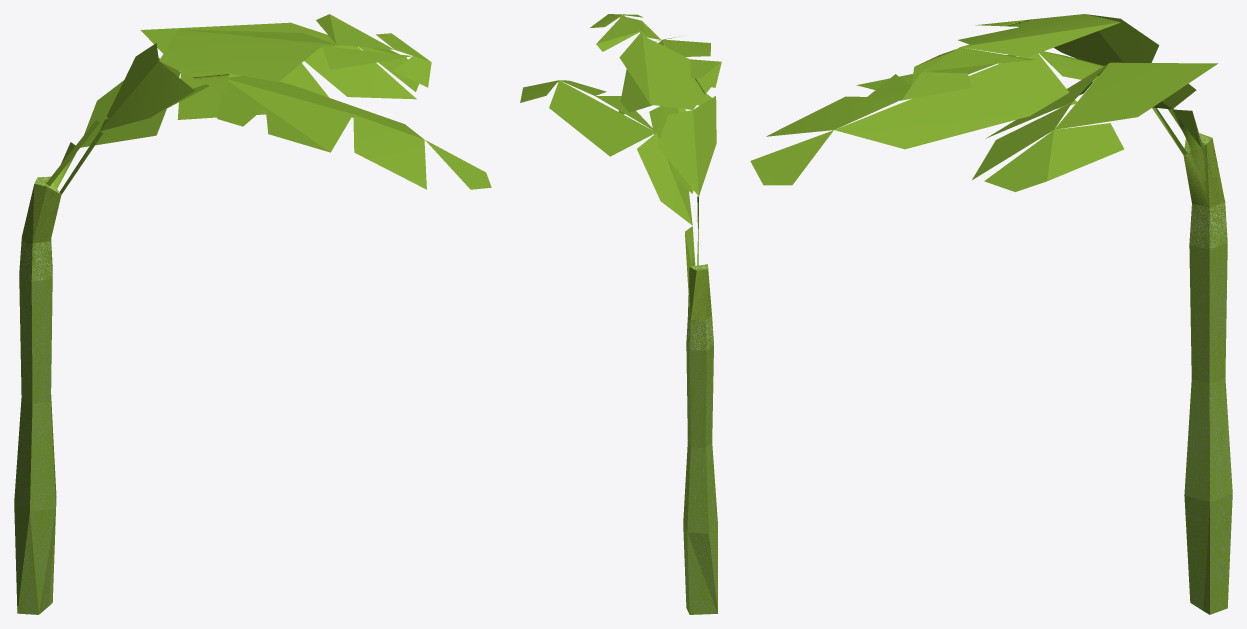
The model's file is Tree_Bamboo_07.fbx.
The picture shows the model from 3 angles, left to right: view 1: azimuth 30°, elevation 25°; view 2: azimuth 150°, elevation 25°; view 3: azimuth 270°, elevation 25°; orthographic projection. The views are drawn at different scales.
Visible parts, largest first — view 1: Model; view 2: Model; view 3: Model.
Part boxes in pixels (bbox=[...]): Model: bbox=[14, 14, 491, 614]; Model: bbox=[520, 14, 721, 614]; Model: bbox=[750, 14, 1232, 614].
Size of the model in its own units: 203 by 366 by 243.
